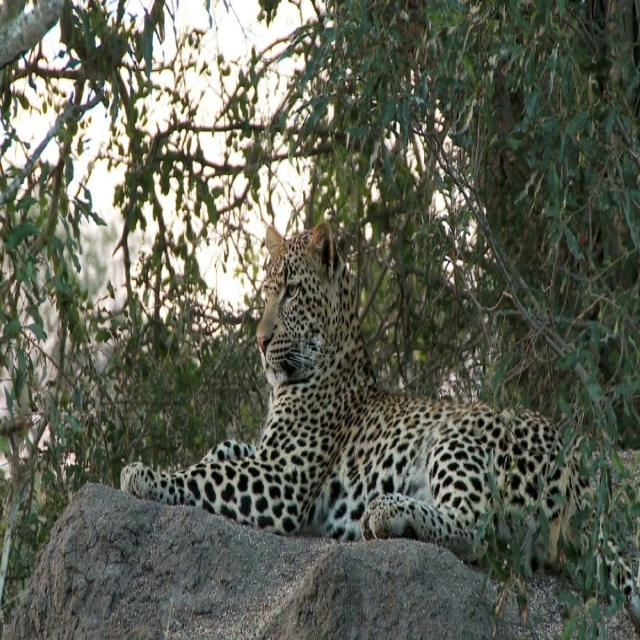Leopard: (124, 224, 587, 558)
